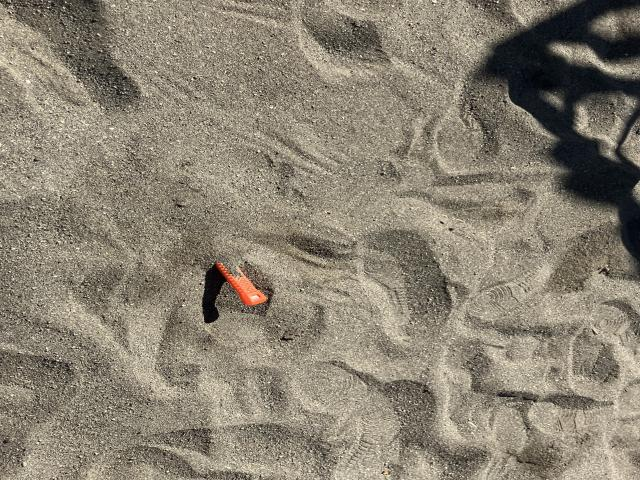hammer: (162, 204, 268, 308)
